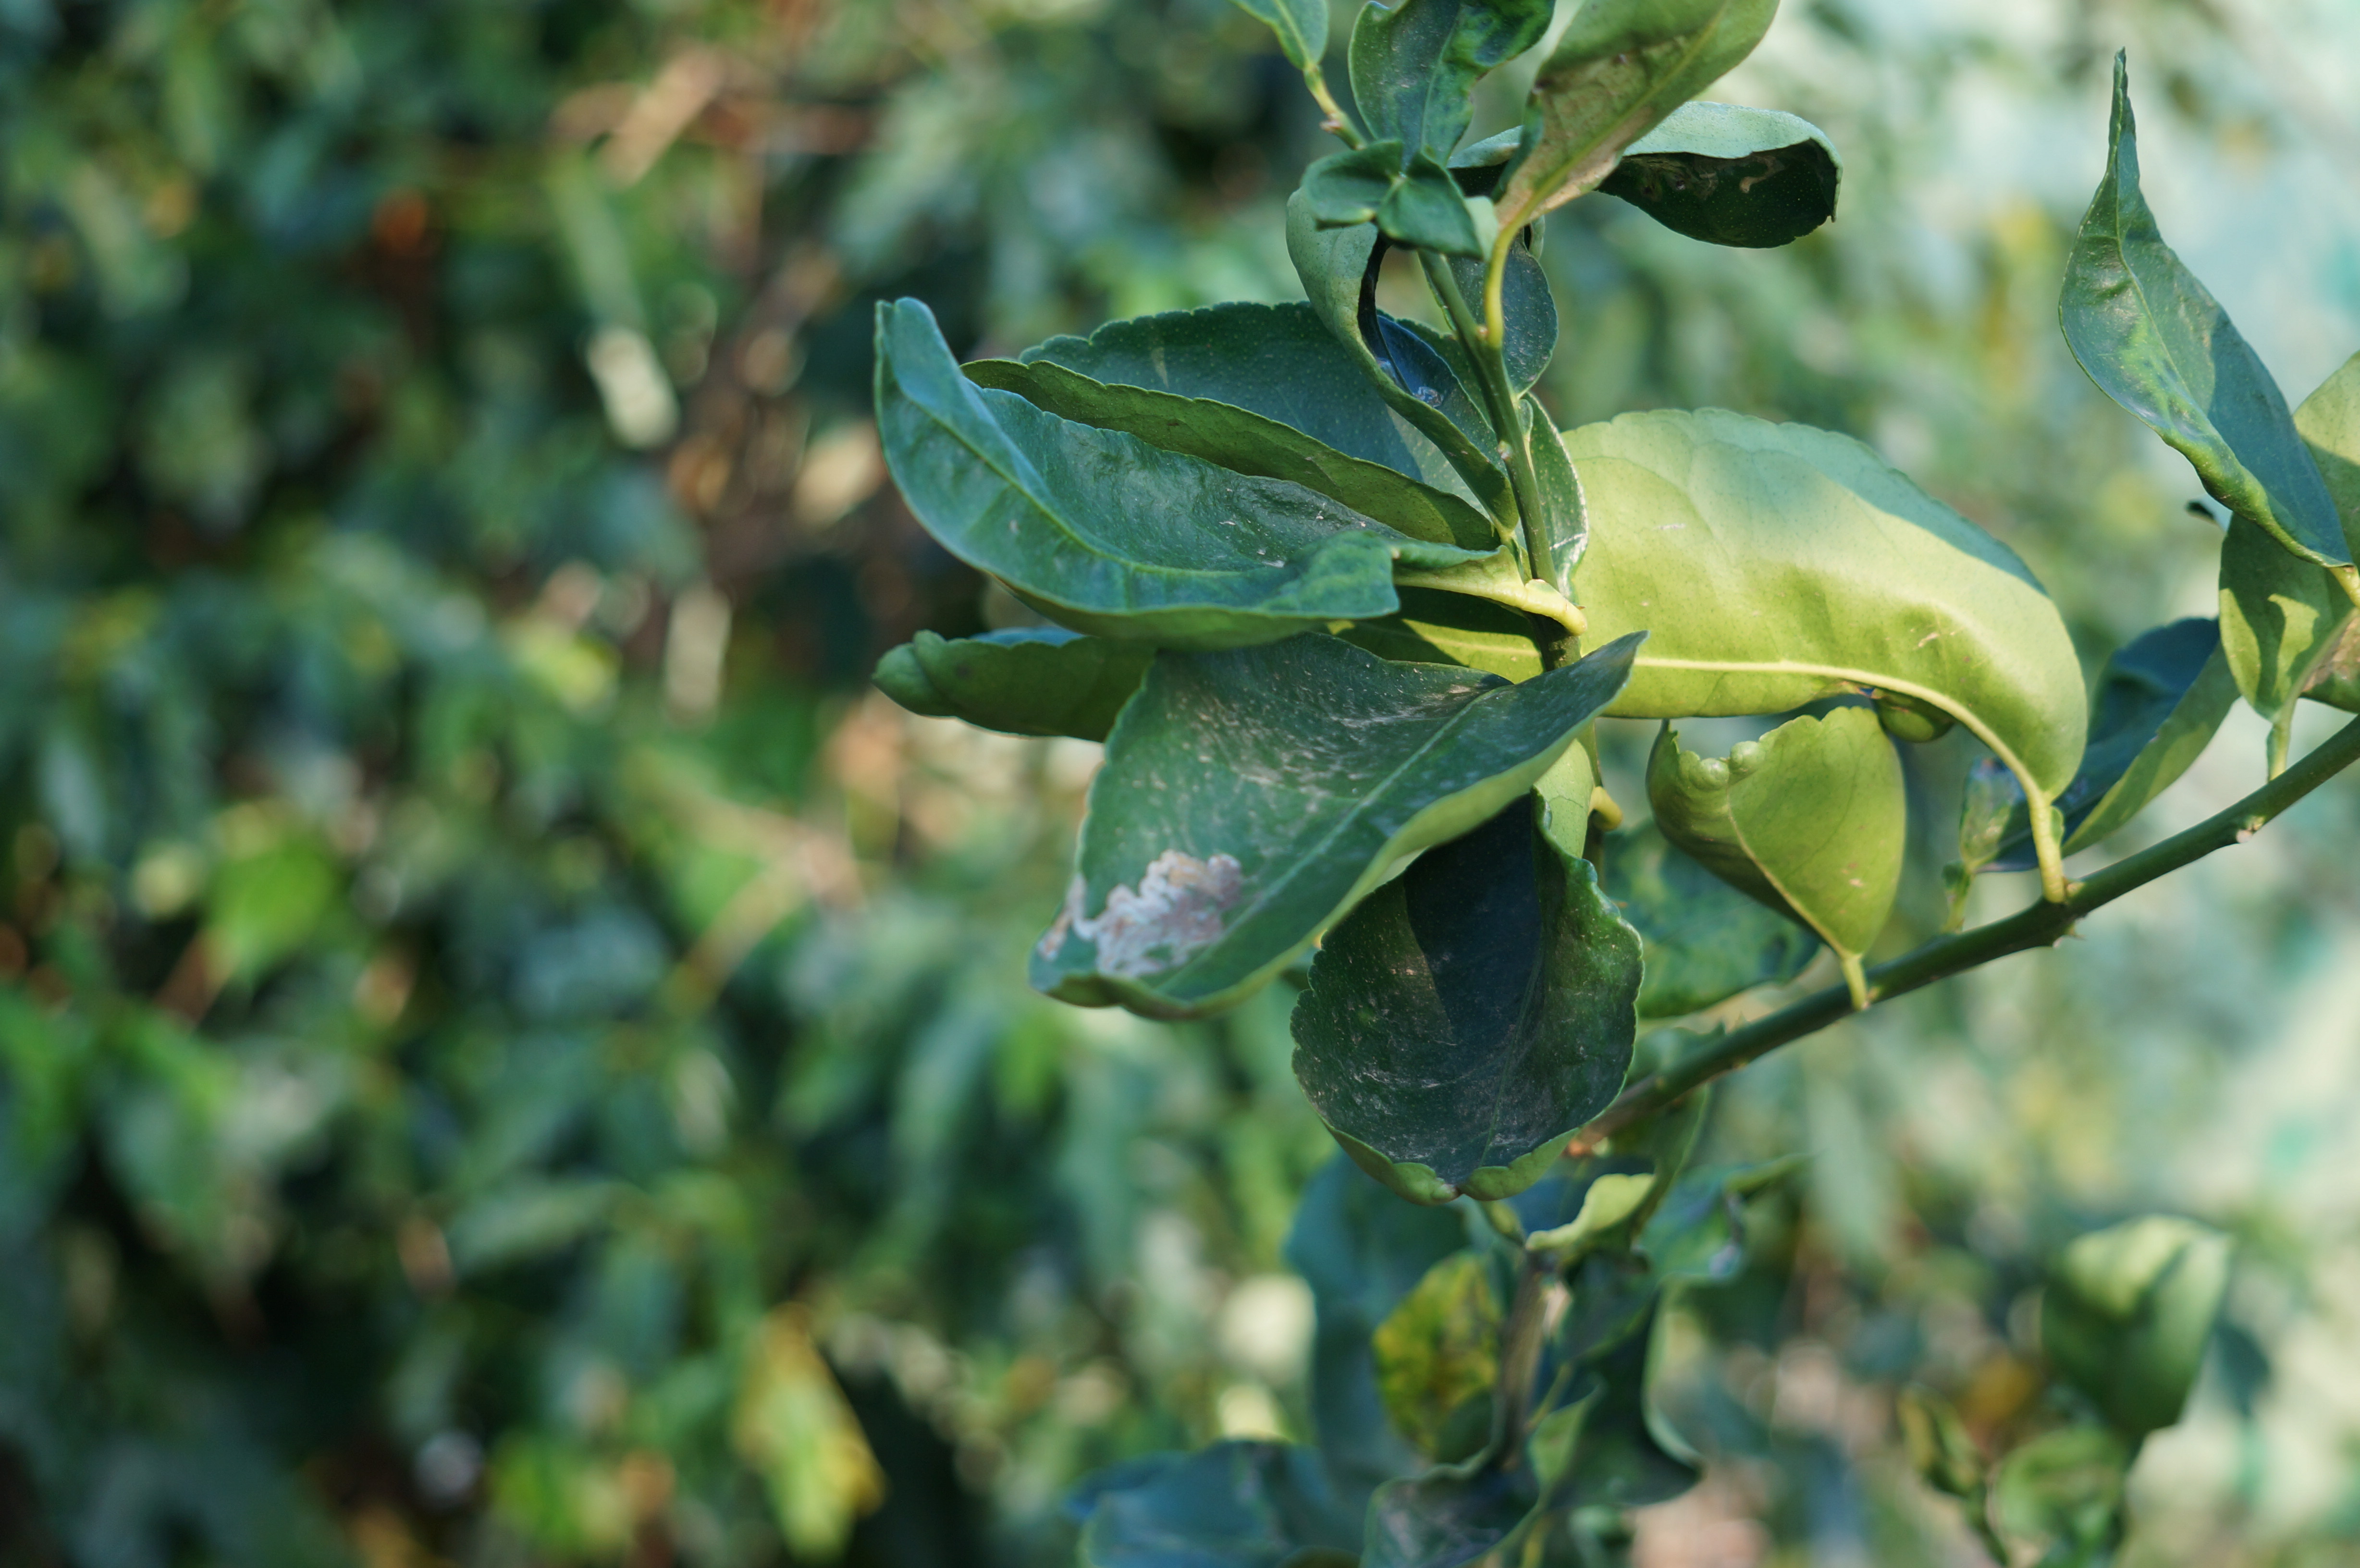damage: (1022, 833, 1256, 1011)
